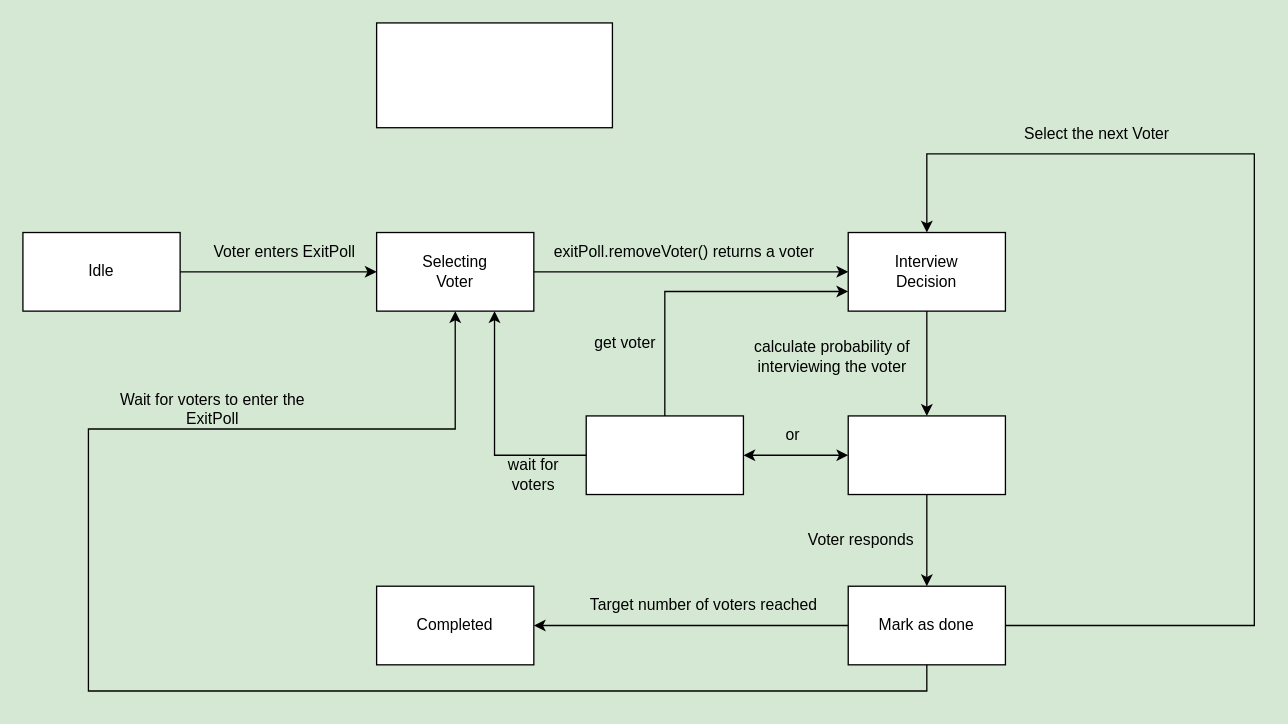
Some shapes in this 1288 by 724 pixel diagram are drawn without their labels. The shapes that lost their labels are listed below. From the top down, each one's centre as x and y in pixels, then its label:
point 493,75: Pollster
point 664,455: Skipping
point 926,455: Interviewing
